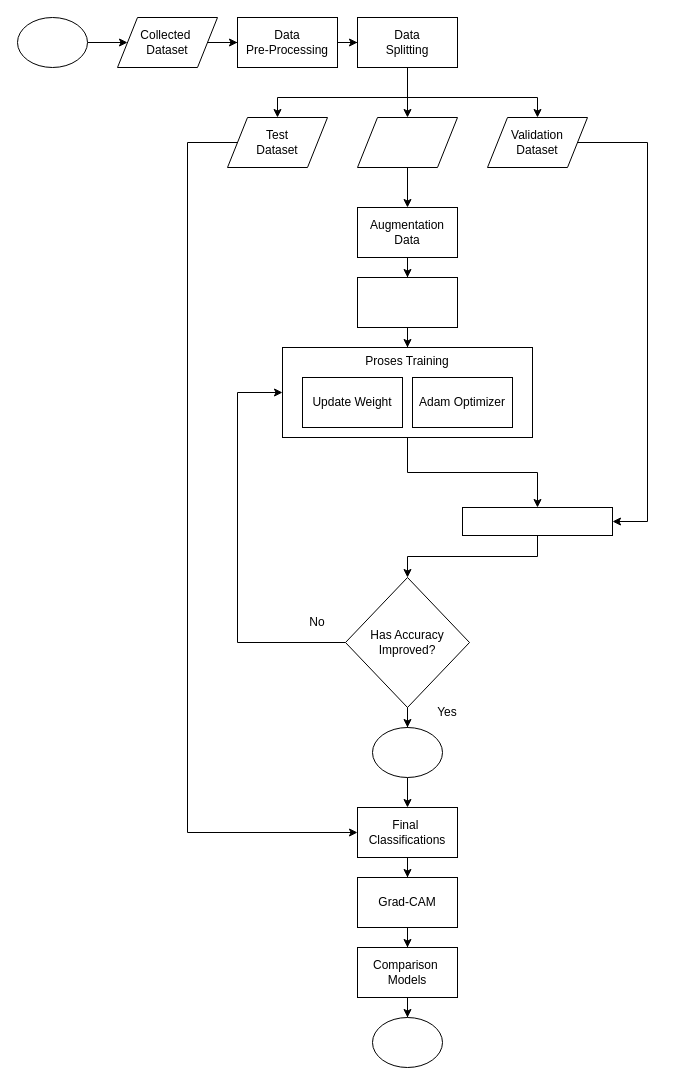
This 673x1085 diagram has some shape labels left out. Here are the shapes that lost their labels. From the top down, the centre of each, then its label:
point 52,42: Start
point 407,142: Training Dataset
point 407,302: Initiate Architecture
point 537,521: Model Validation
point 407,752: Models
point 407,1042: End
